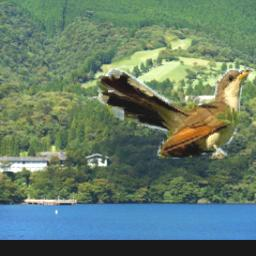Cuckoo: (96, 68, 253, 159)
